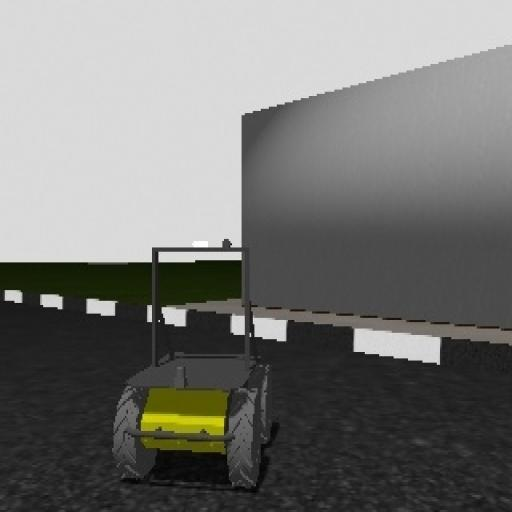huskya200: (98, 210, 292, 497)
